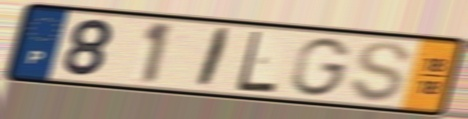1: (140, 20, 174, 86)
8: (62, 17, 113, 78)
G: (288, 36, 355, 99)
I: (192, 25, 235, 91)
L: (234, 29, 279, 95)
S: (347, 40, 413, 105)
